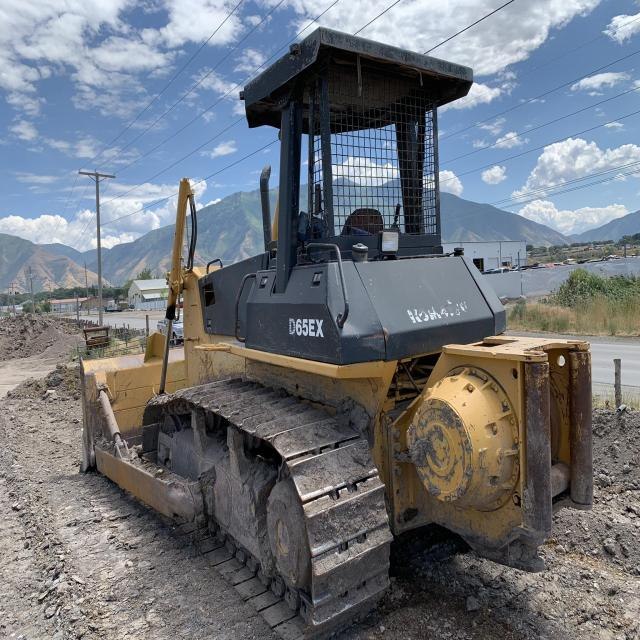Bulldozer: (71, 26, 604, 632)
